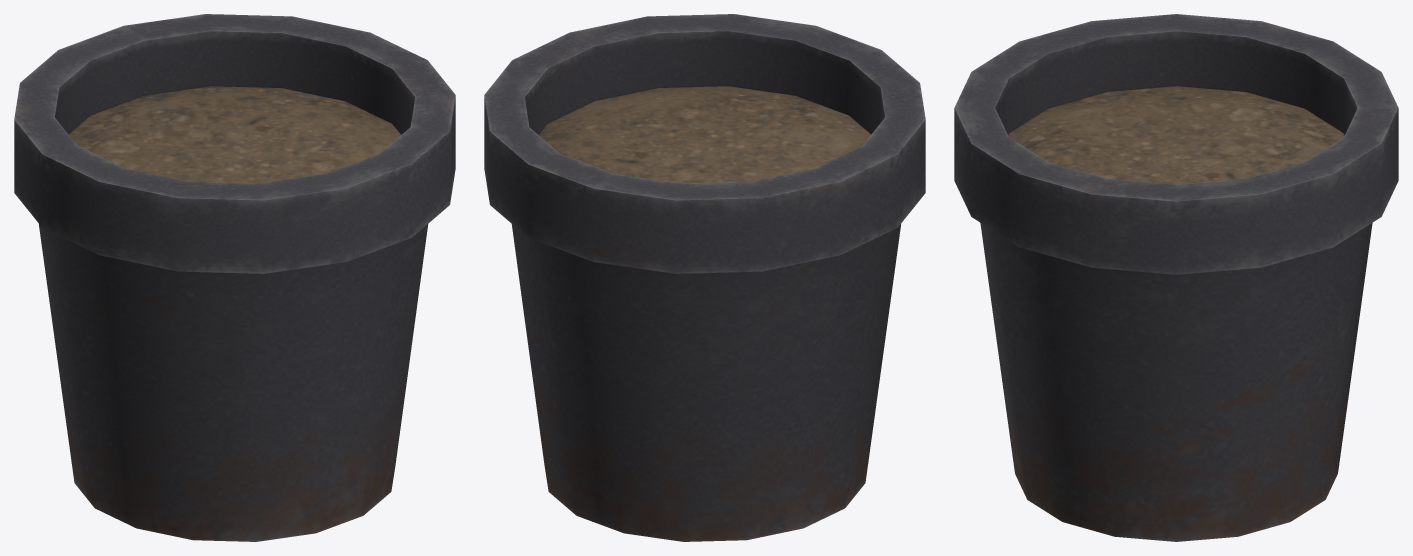
File: sb_obj_indoor046_FlowerPot02.fbx
3 views of the same model, side by side, from view 1: azimuth 30°, elevation 25°; view 2: azimuth 150°, elevation 25°; view 3: azimuth 270°, elevation 25° (orthographic).
Visible parts, largest first — view 1: sb_obj_indoor046_FlowerPot02; view 2: sb_obj_indoor046_FlowerPot02; view 3: sb_obj_indoor046_FlowerPot02.
Boxes of the visible parts, x1,y1,x2,y2 form: sb_obj_indoor046_FlowerPot02: (14, 14, 455, 541); sb_obj_indoor046_FlowerPot02: (484, 14, 925, 541); sb_obj_indoor046_FlowerPot02: (954, 14, 1398, 541).
Size of the model in its own units: 0.33 by 0.3 by 0.33.
